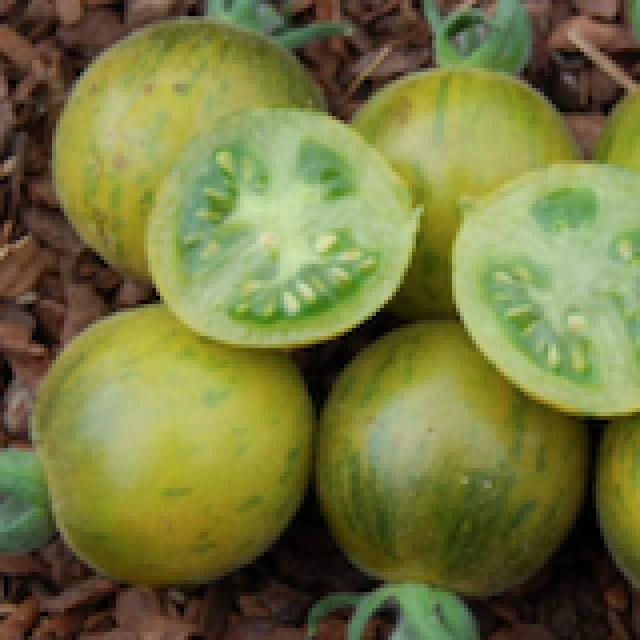yesil: (20, 16, 624, 582)
